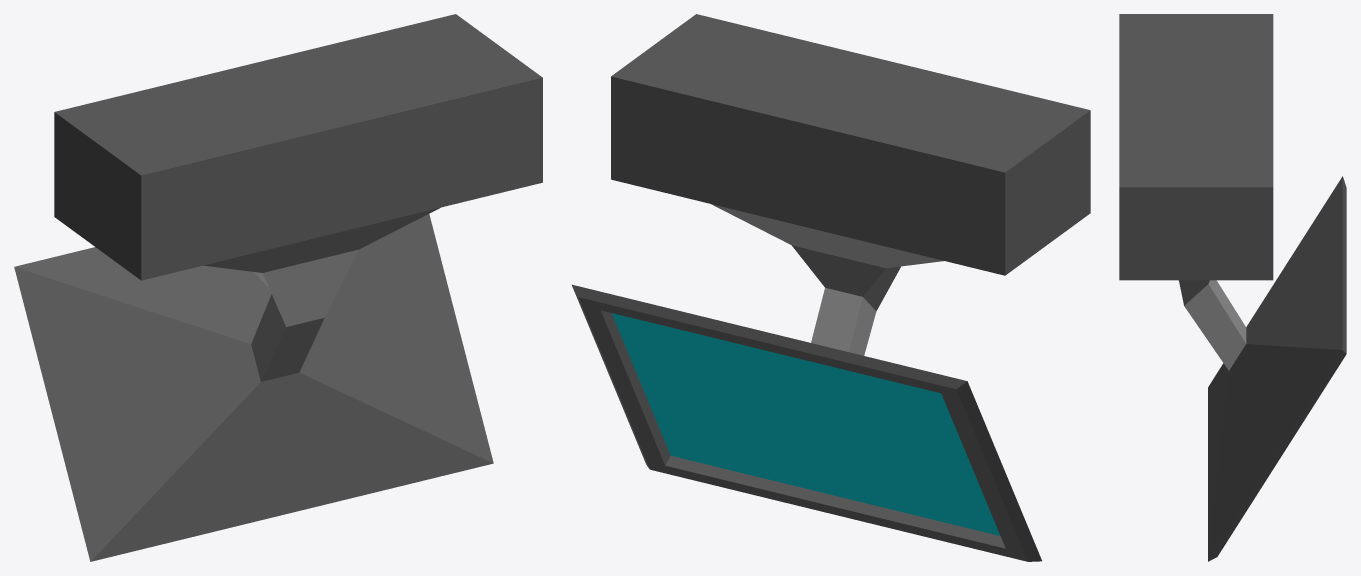
File: Tv Score Screen.fbx
The picture shows the model from 3 angles, left to right: view 1: azimuth 30°, elevation 25°; view 2: azimuth 150°, elevation 25°; view 3: azimuth 270°, elevation 25°; orthographic projection. The views are drawn at different scales.
Parts seen in each view (by area): view 1: Tv Score Screen; view 2: Tv Score Screen; view 3: Tv Score Screen.
Part boxes in pixels (<box>): Tv Score Screen: <box>14,14,542,561</box>; Tv Score Screen: <box>572,14,1090,561</box>; Tv Score Screen: <box>1119,14,1346,561</box>.
Bounding box in the file's own units: 804 × 805 × 443.
